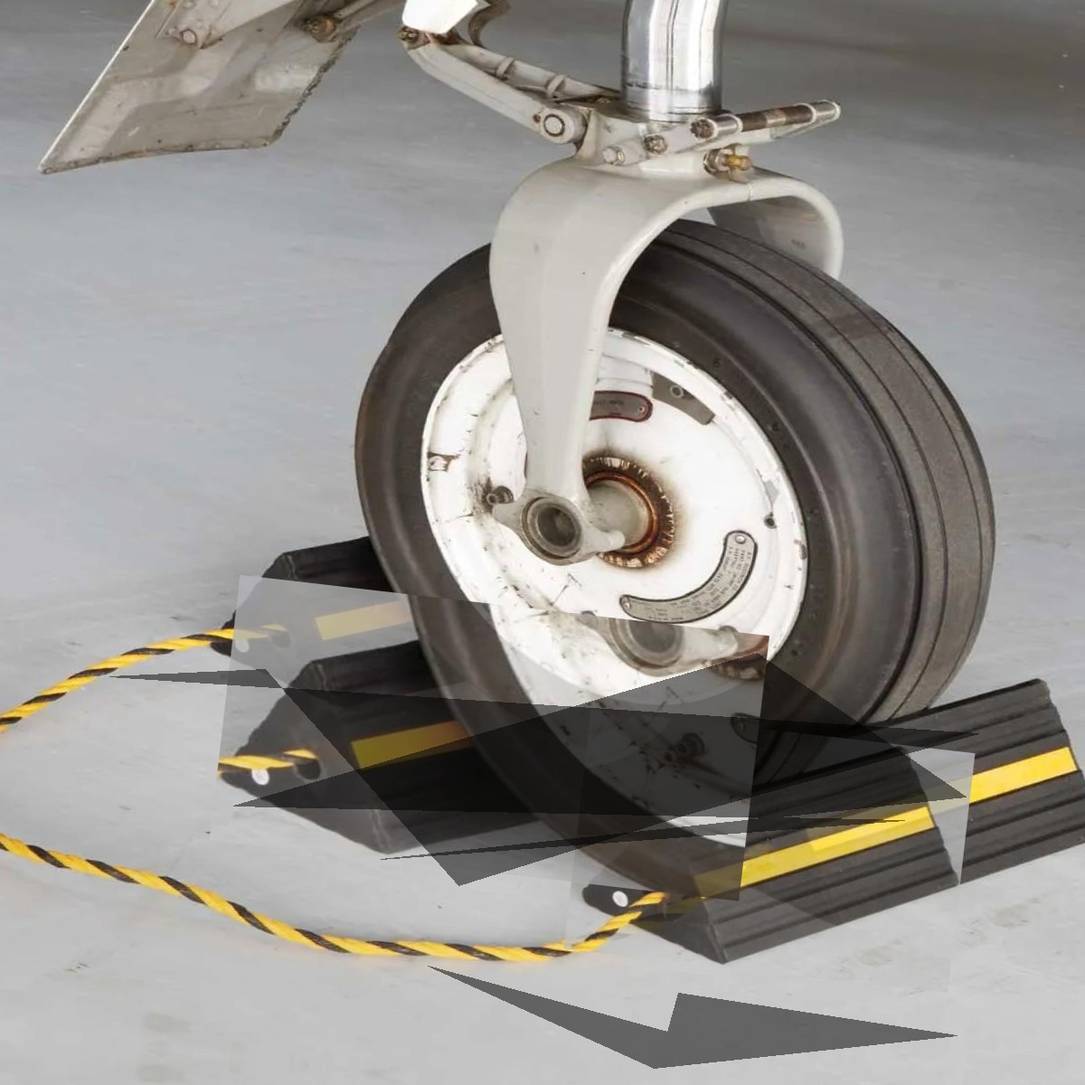chock: (210, 575, 769, 901), (659, 637, 1085, 958), (202, 484, 651, 747), (564, 709, 975, 993)
wheel: (318, 189, 1018, 803)
